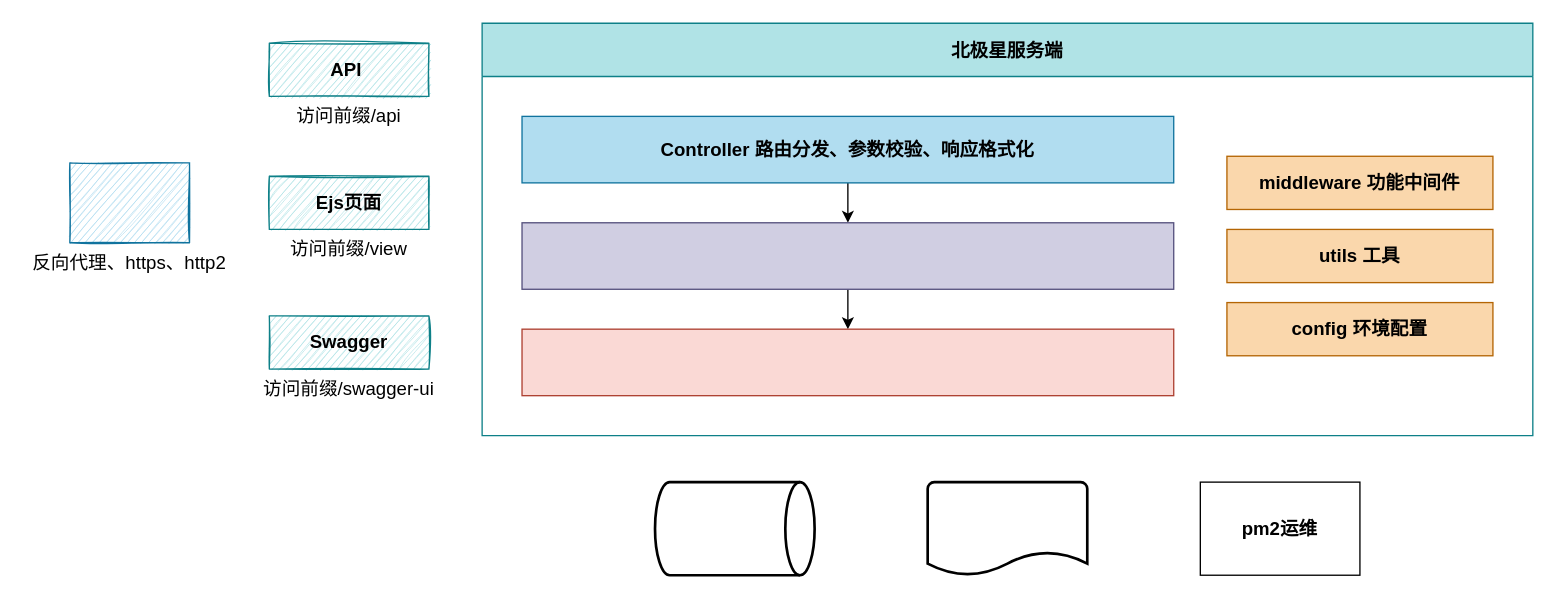
This 1556x600 diagram has some shape labels left out. The centre of each missing label's shape, as x and y in pixels:
Entities 数据实体与ORM: the point at 847,362
MySQL: the point at 734,528
Nginx: the point at 129,202
Service 业务逻辑与数据处理: the point at 847,255
winston日志: the point at 1007,528
